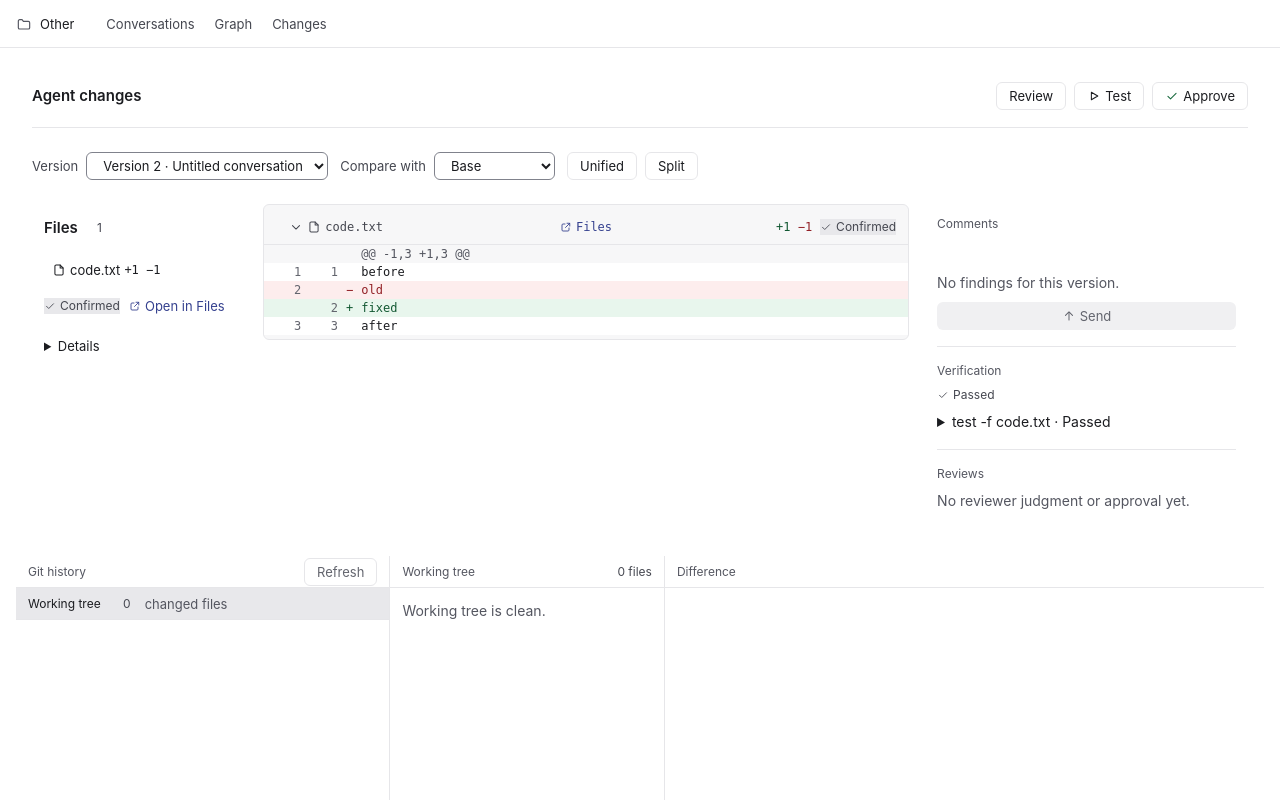
Test: switches versions, clears draft anchors and compares saved patches without attaching synthetic lines
The image size is (1280, 800).
Click the button with aria-label "Comment on code.txt new line 2" at (379, 308), box [361, 299, 900, 317]
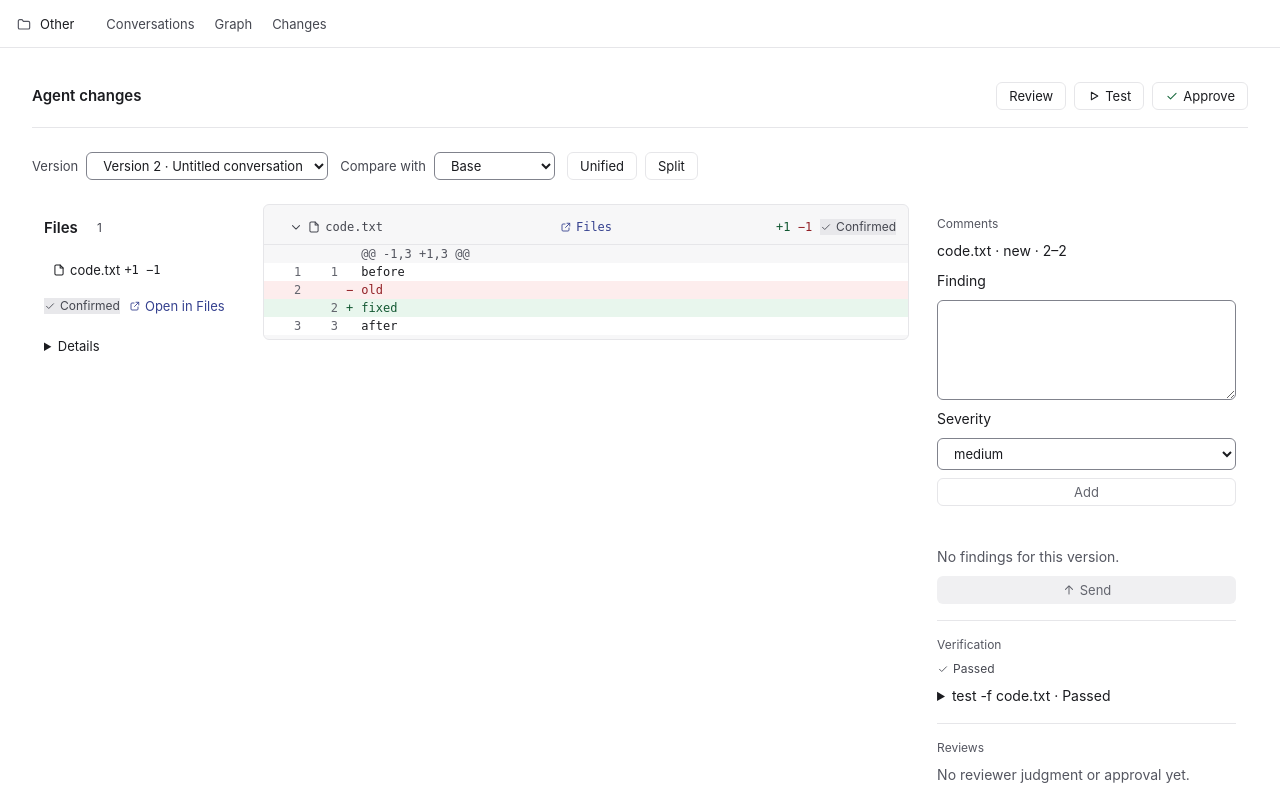
Select "Version 1 · Untitled conversation" in the dropdown labelled "Version" at (207, 166), box [86, 152, 328, 180]
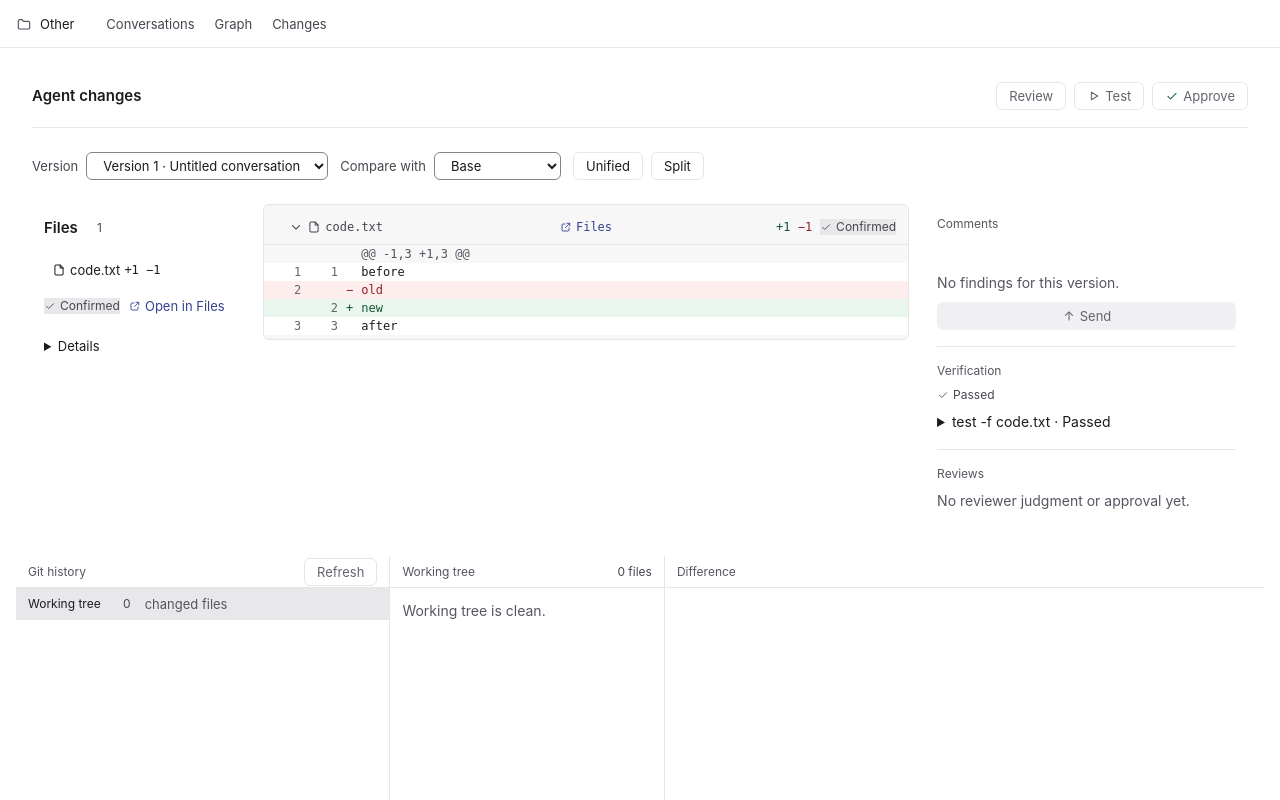
expect the button "Approve" is disabled: met, box [1152, 82, 1248, 110]
Select "Version 2 · Untitled conversation" in the dropdown labelled "Version" at (207, 166), box [86, 152, 328, 180]
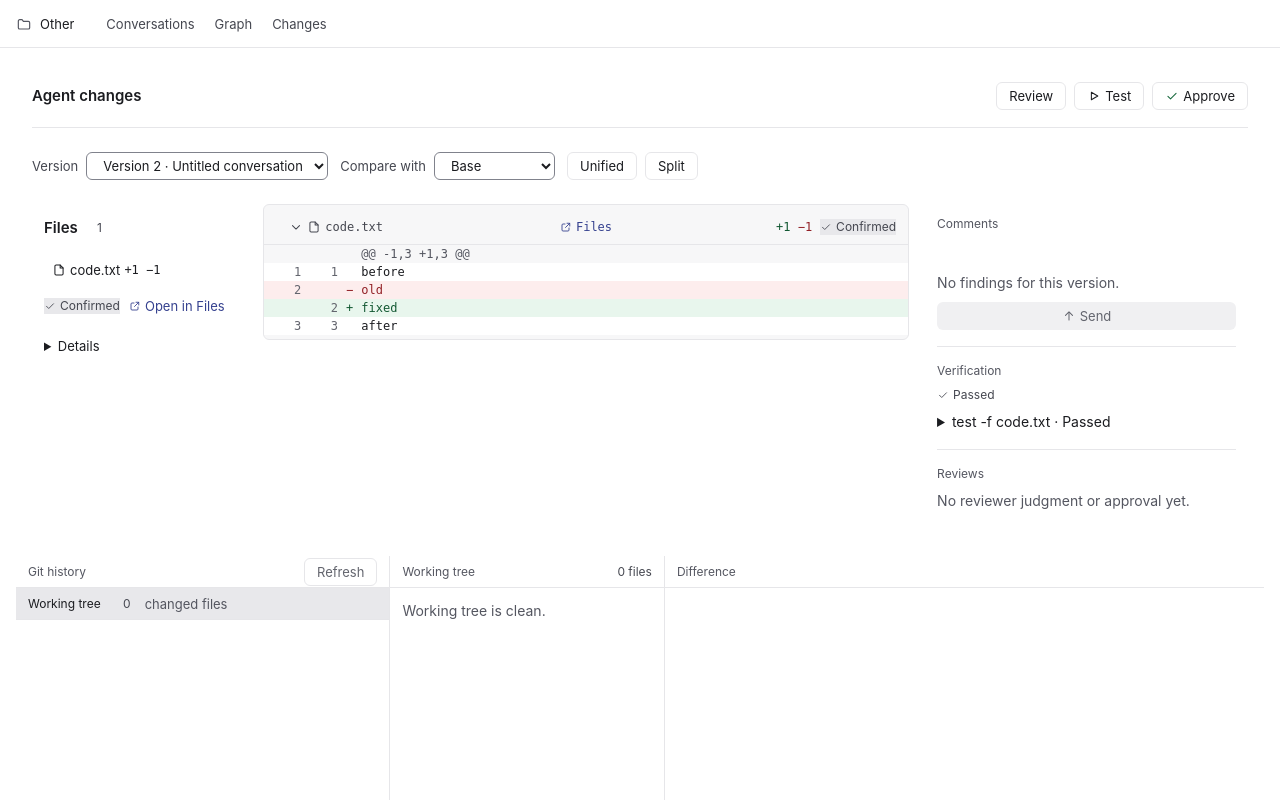
Select "Version 1 · a1" in the dropdown labelled "Compare with" at (494, 166), box [434, 152, 555, 180]
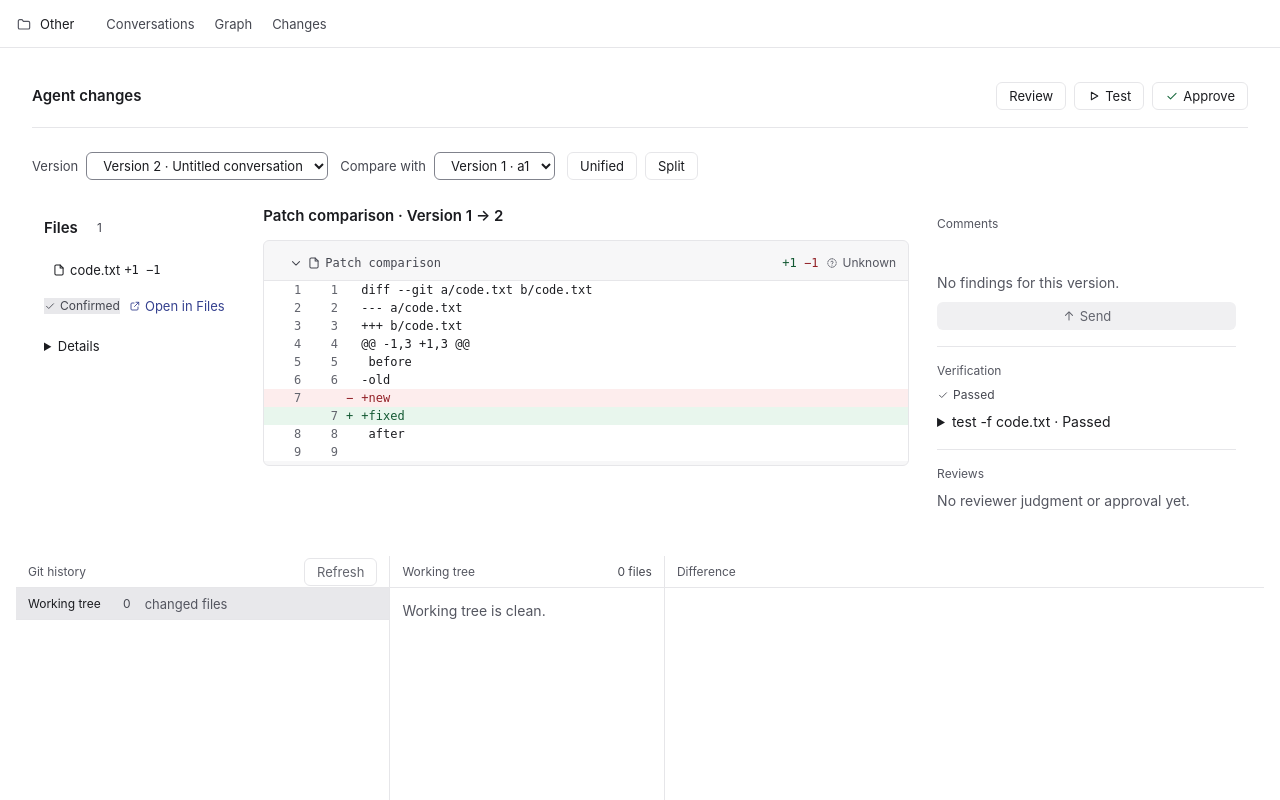
expect the table named "Patch comparison unified diff" shows "+new": met, box [361, 391, 390, 405]
expect the table named "Patch comparison unified diff" shows "+fixed": met, box [361, 409, 405, 423]
